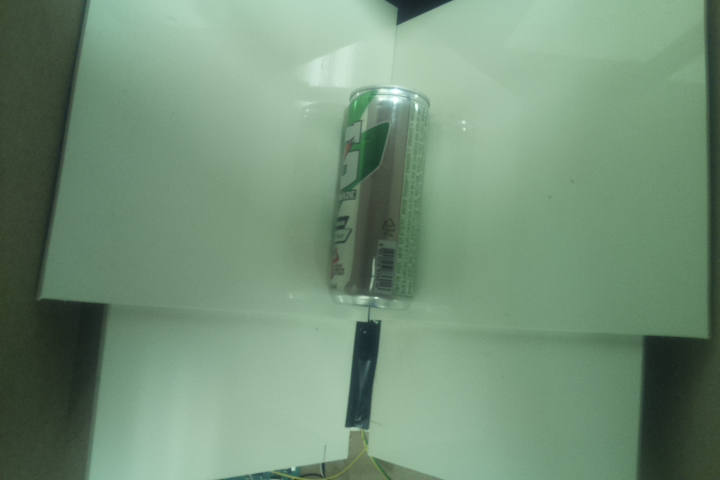can: (326, 83, 437, 312)
